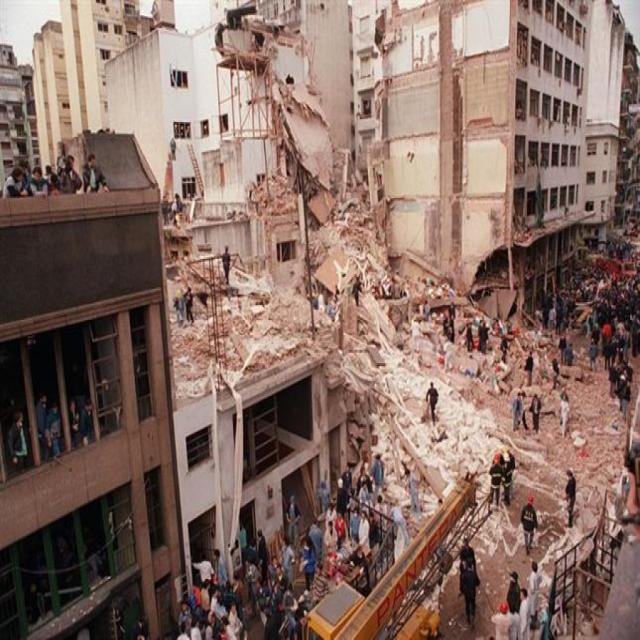body: (5, 379, 100, 476), (172, 526, 250, 639), (537, 255, 601, 389), (600, 229, 639, 420), (250, 527, 312, 639), (310, 258, 412, 319), (441, 300, 512, 366), (2, 144, 82, 202), (164, 115, 213, 166), (406, 458, 446, 518), (346, 452, 386, 510), (325, 464, 347, 552), (79, 532, 107, 588), (459, 555, 481, 626), (310, 478, 326, 568), (157, 187, 191, 229), (297, 532, 317, 601), (505, 568, 523, 639), (456, 536, 476, 598), (526, 559, 542, 632), (82, 153, 109, 195), (509, 387, 532, 436), (520, 494, 538, 556), (486, 452, 505, 509), (490, 600, 515, 640), (284, 492, 302, 545), (366, 508, 381, 568), (347, 506, 361, 570), (564, 468, 577, 530), (424, 380, 440, 428), (172, 285, 190, 327), (501, 450, 514, 507), (517, 587, 531, 639), (357, 509, 370, 558), (528, 392, 542, 436), (322, 519, 338, 555), (558, 394, 570, 438), (183, 285, 195, 325), (522, 350, 534, 387), (221, 244, 231, 285), (508, 606, 520, 639)
